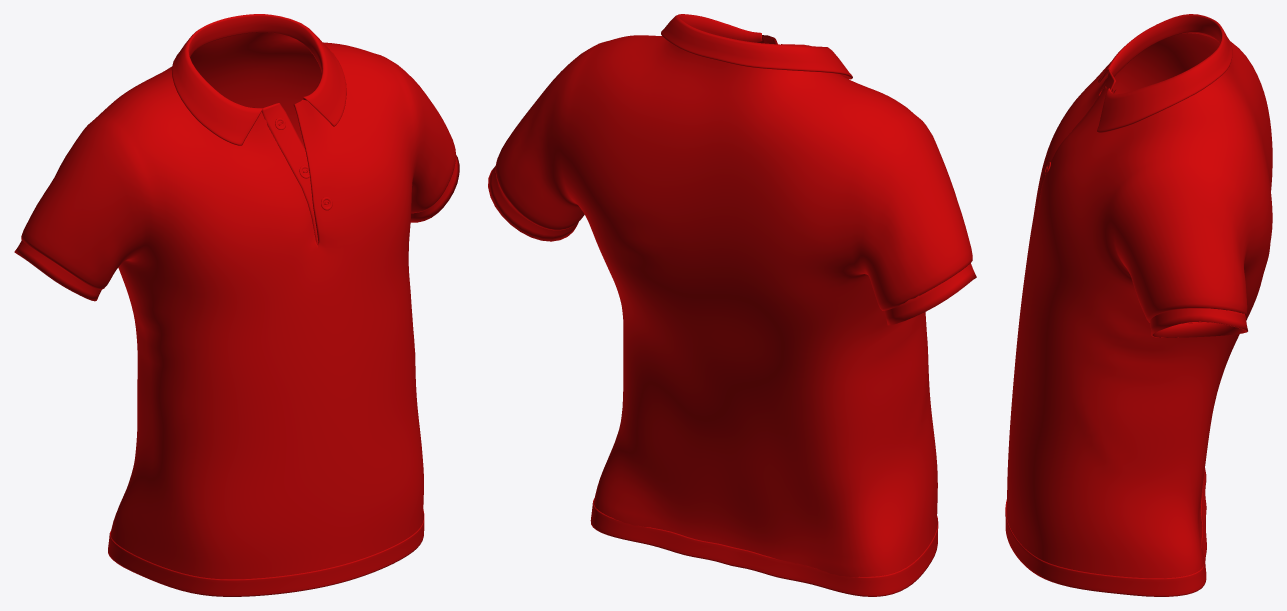
The model's file is shirt_red.obj.
3 renders of one model, left to right at view 1: azimuth 30°, elevation 25°; view 2: azimuth 150°, elevation 25°; view 3: azimuth 270°, elevation 25°, orthographic. The views are drawn at different scales.
Parts seen in each view (by area): view 1: polotshit; view 2: polotshit; view 3: polotshit.
Part boxes in pixels (left/top/right/bottom): polotshit: left=14, top=14, right=459, bottom=596; polotshit: left=488, top=14, right=976, bottom=596; polotshit: left=1005, top=14, right=1272, bottom=596.
Size of the model in its own units: 58.22 by 62.88 by 30.91.
